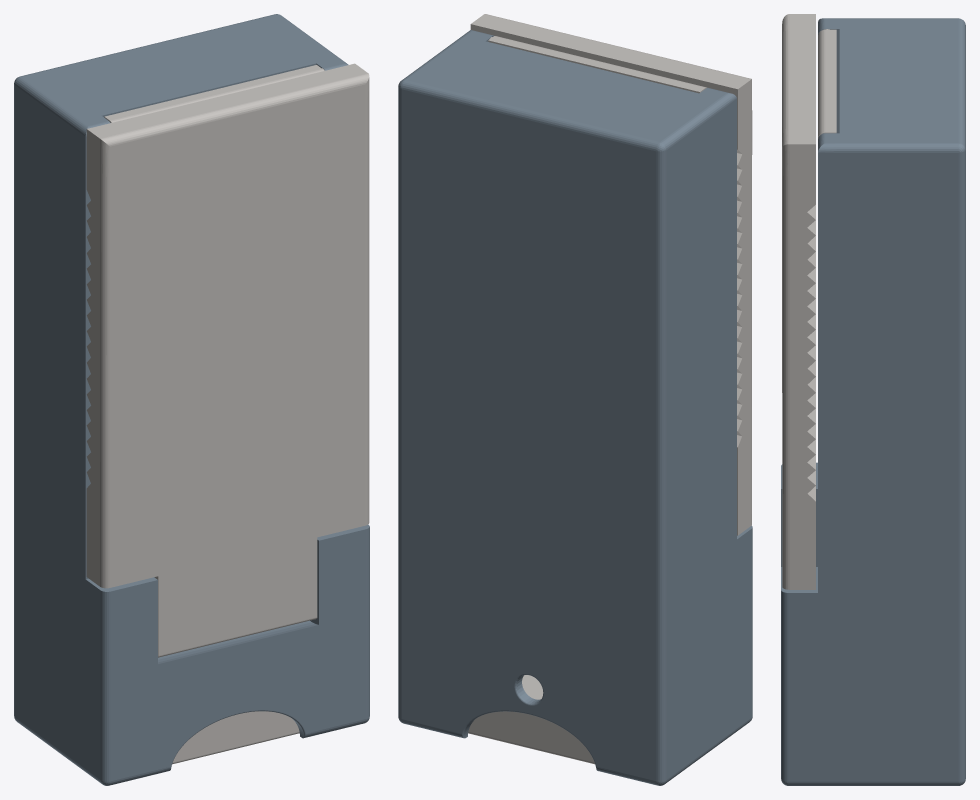
3 renders of one model, left to right at view 1: azimuth 30°, elevation 25°; view 2: azimuth 150°, elevation 25°; view 3: azimuth 270°, elevation 25°, orthographic.
Parts seen in each view (by area): view 1: empty_2; view 2: empty_2; view 3: empty_2.
Boxes of the visible parts, x1,y1,x2,y2 form: empty_2: (14,14,369,785); empty_2: (398,14,752,785); empty_2: (781,14,965,785).
Size of the model in its own units: 50 by 115 by 30.
